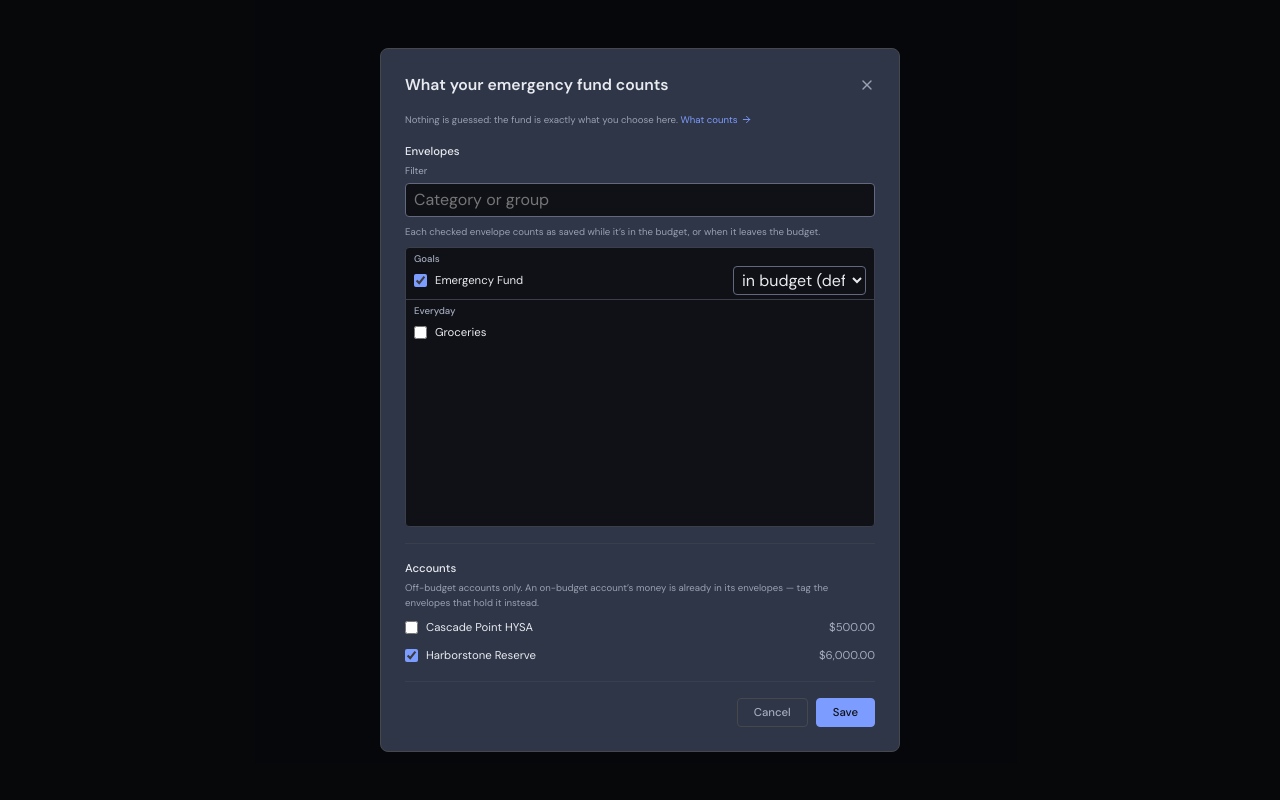
Scenario: EmergencyFundPicker › stays open and says why when the save is refused
Click the button "Save" at coordinates (845, 712), box left=816, top=698, right=875, bottom=727
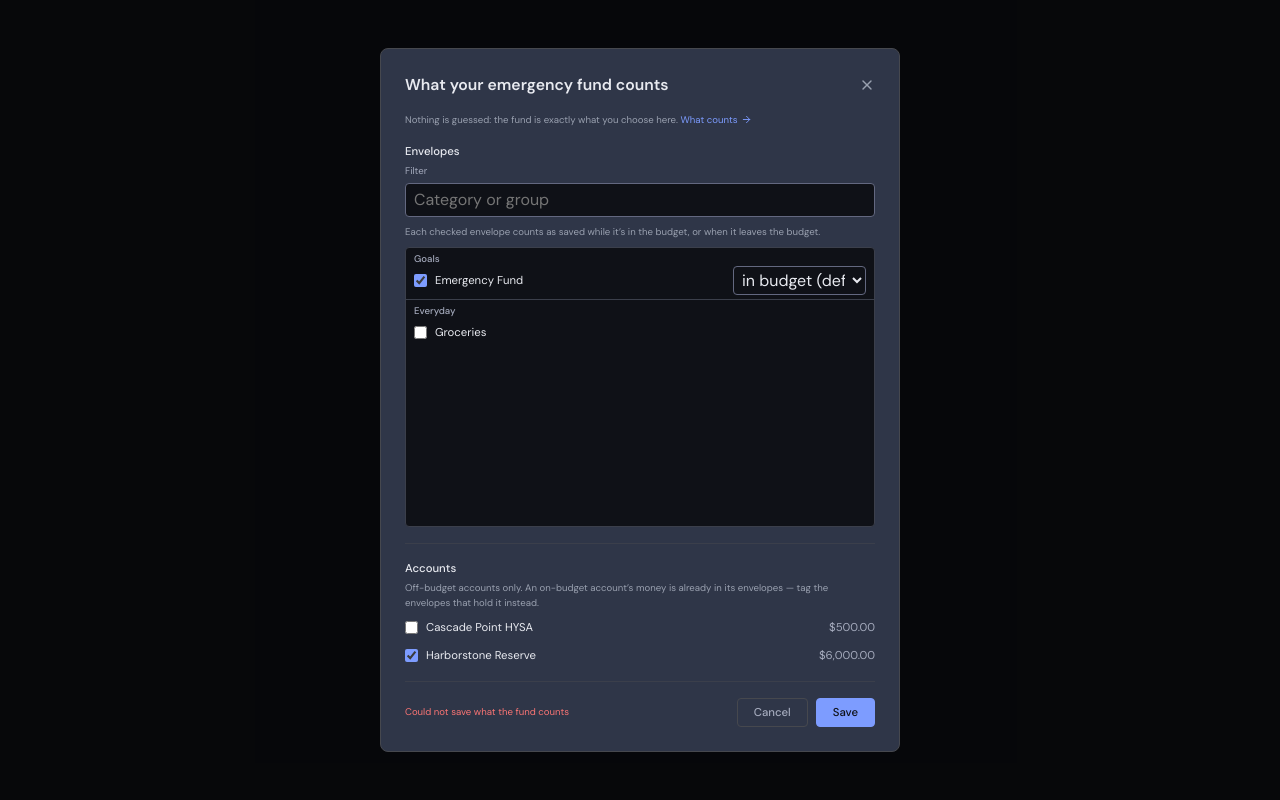
Now the text "Could not save what the fund counts" is shown, box left=405, top=705, right=569, bottom=720
